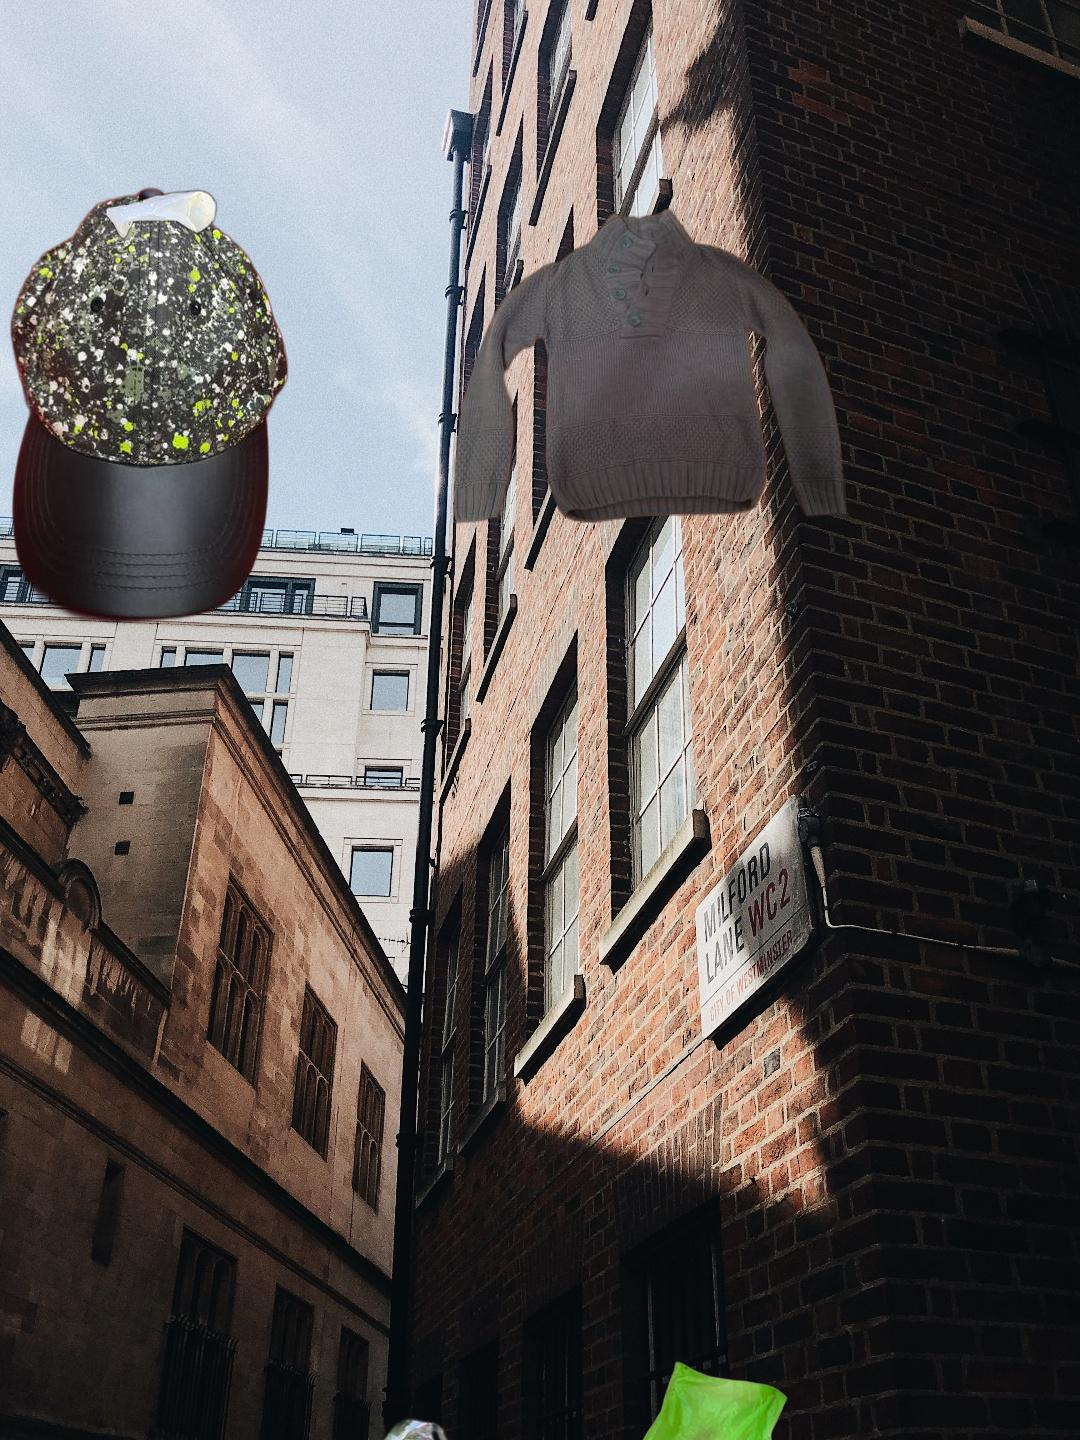clothes: (446, 204, 846, 576), (7, 185, 292, 628)
glass: (1075, 12, 1080, 334)
plastic-bag: (608, 1358, 790, 1440)
plastic-bottles: (202, 1025, 569, 1440), (101, 184, 220, 245)
trashbox-cardboard: (267, 573, 1080, 1440)
